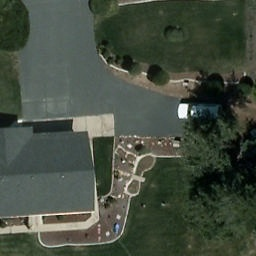car: (175, 105, 225, 122)
